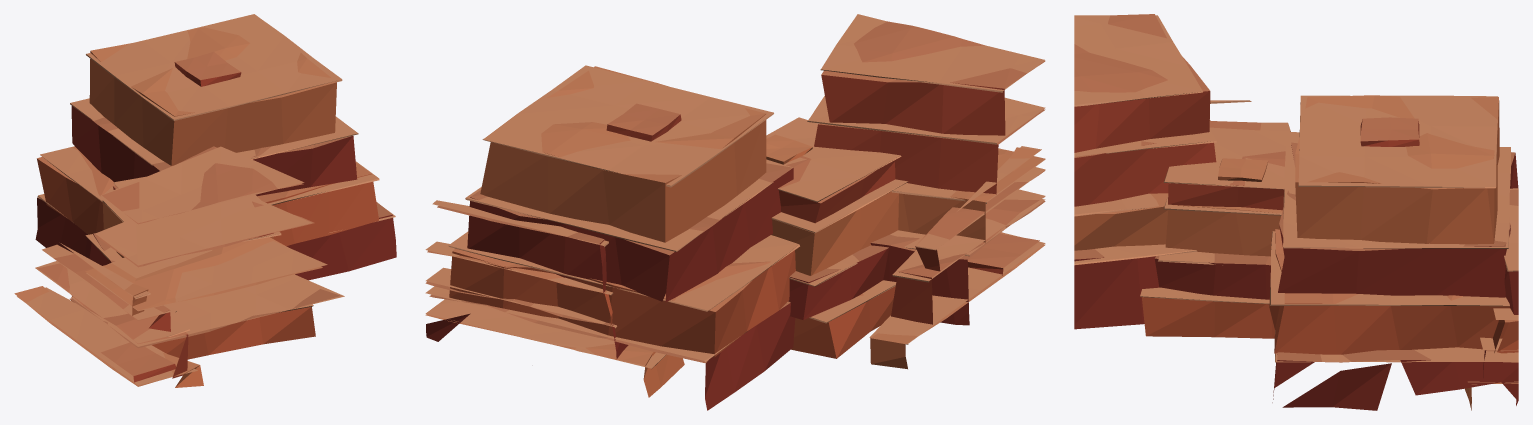
The picture shows the model from 3 angles, left to right: view 1: azimuth 30°, elevation 25°; view 2: azimuth 150°, elevation 25°; view 3: azimuth 270°, elevation 25°; orthographic projection. The views are drawn at different scales.
Parts seen in each view (by area): view 1: scene.5.5; view 2: scene.5.5; view 3: scene.5.5.
Boxes of the visible parts, box(x1,y1,x2,y2) form: scene.5.5: box(14, 14, 396, 387); scene.5.5: box(425, 14, 1045, 410); scene.5.5: box(1074, 14, 1518, 410).
Bounding box in the file's own units: 62.5 × 32.96 × 62.5.
